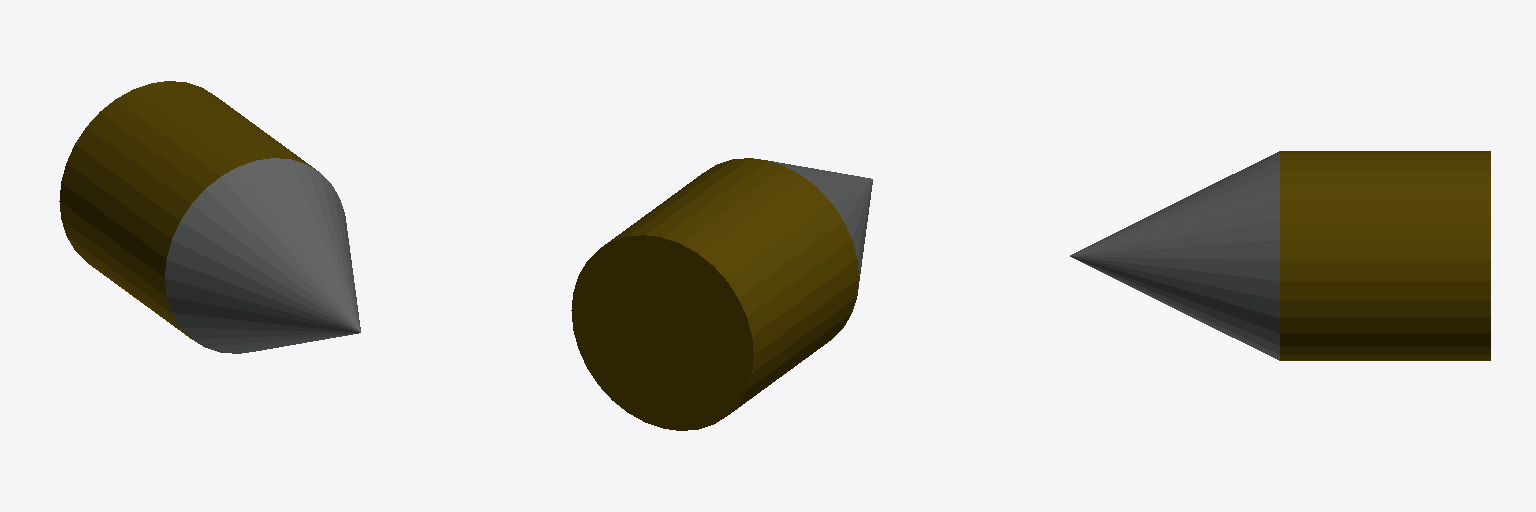
Rendered from lander2.obj.
3 views of the same model, side by side, from view 1: azimuth 30°, elevation 25°; view 2: azimuth 150°, elevation 25°; view 3: azimuth 270°, elevation 25° (orthographic).
Size of the model in its own units: 2 by 2 by 4.